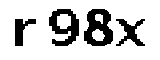8: (83, 7, 114, 51)
9: (45, 8, 81, 51)
r: (11, 16, 39, 50)
x: (115, 17, 148, 48)
